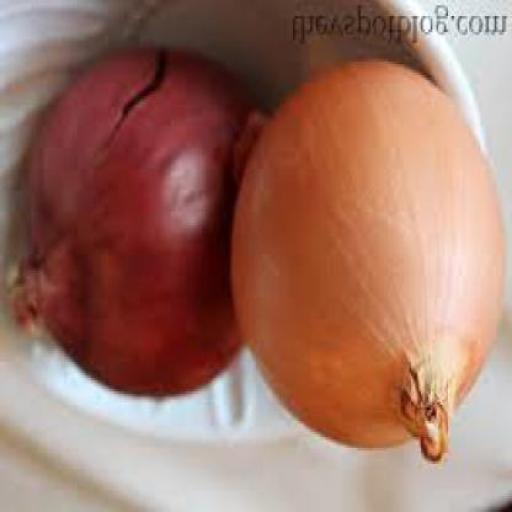biodegradable: (229, 61, 500, 469), (6, 48, 256, 405)
